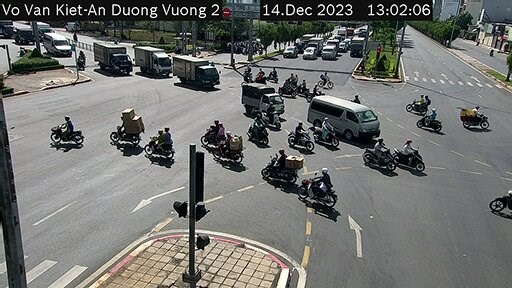car: (308, 88, 378, 143), (320, 43, 336, 62), (299, 47, 315, 62), (281, 48, 300, 58)
motorbike: (298, 165, 336, 213), (265, 144, 306, 188), (365, 138, 402, 183), (456, 99, 492, 141), (210, 127, 248, 165), (112, 107, 144, 152), (393, 139, 430, 177), (53, 113, 83, 150), (246, 113, 273, 152), (147, 128, 175, 164), (200, 117, 229, 150), (415, 103, 448, 129), (406, 92, 429, 117)
truck: (236, 73, 293, 129), (162, 49, 219, 92), (87, 42, 137, 77), (132, 42, 169, 76)
